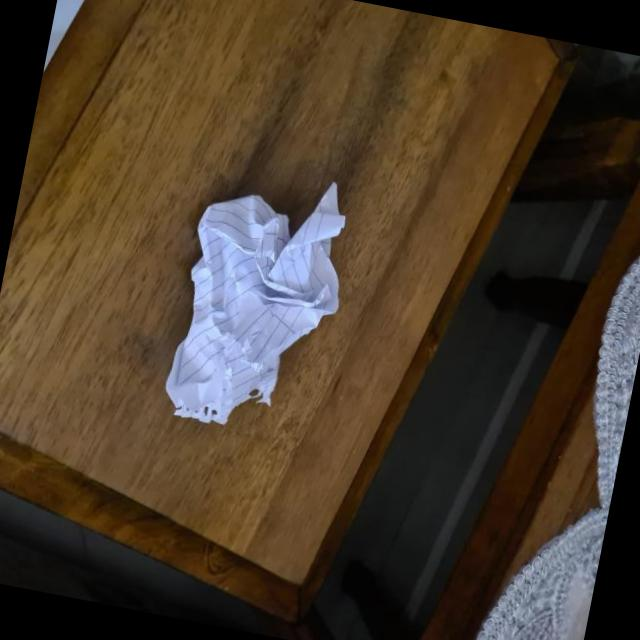cardboard paper: (165, 180, 348, 425)
